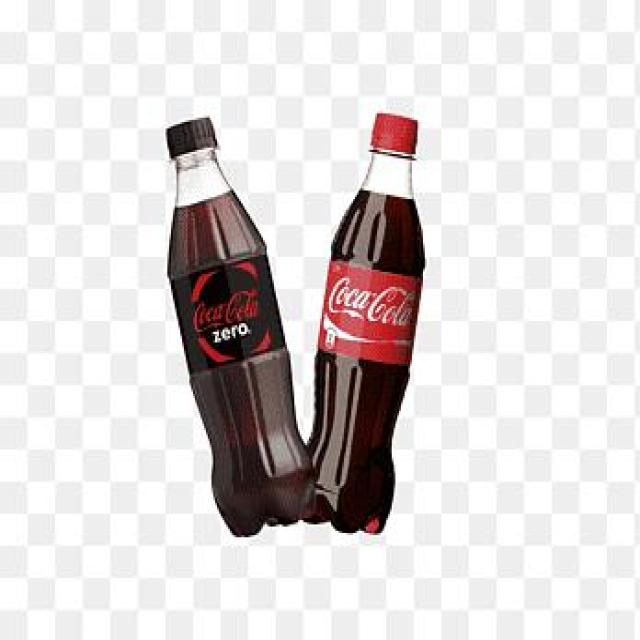coca-cola: (156, 116, 314, 537), (313, 102, 430, 544)
